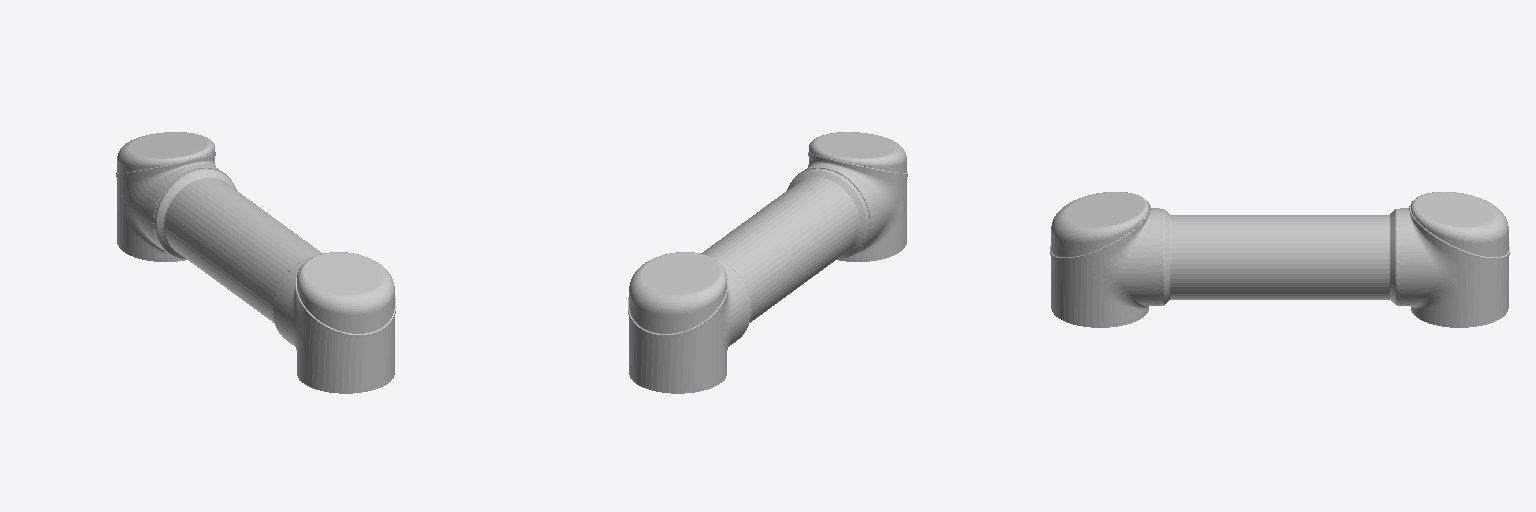
File: upperarm.obj
3 renders of one model, left to right at view 1: azimuth 30°, elevation 25°; view 2: azimuth 150°, elevation 25°; view 3: azimuth 270°, elevation 25°, orthographic.
Visible parts, largest first — view 1: Actor3_ActorShape3_0-Mesh.011, Actor2_ActorShape2_0-Mesh.011, Actor1_ActorShape1_0-Mesh.018, Actor0_ActorShape0_0-Mesh.024, Actor4_ActorShape4_0-Mesh.004; view 2: Actor3_ActorShape3_0-Mesh.011, Actor0_ActorShape0_0-Mesh.024, Actor4_ActorShape4_0-Mesh.004, Actor2_ActorShape2_0-Mesh.011, Actor1_ActorShape1_0-Mesh.018; view 3: Actor3_ActorShape3_0-Mesh.011, Actor0_ActorShape0_0-Mesh.024, Actor2_ActorShape2_0-Mesh.011, Actor1_ActorShape1_0-Mesh.018, Actor4_ActorShape4_0-Mesh.004.
Part boxes in pixels (x1,y1,x2,y2): Actor3_ActorShape3_0-Mesh.011: (154,168,322,329); Actor2_ActorShape2_0-Mesh.011: (274,259,394,393); Actor1_ActorShape1_0-Mesh.018: (296,252,395,337); Actor0_ActorShape0_0-Mesh.024: (117,156,231,261); Actor4_ActorShape4_0-Mesh.004: (116,132,215,176); Actor3_ActorShape3_0-Mesh.011: (701,168,869,329); Actor0_ActorShape0_0-Mesh.024: (629,259,749,393); Actor4_ActorShape4_0-Mesh.004: (628,252,727,337); Actor2_ActorShape2_0-Mesh.011: (792,156,906,261); Actor1_ActorShape1_0-Mesh.018: (808,132,907,176); Actor3_ActorShape3_0-Mesh.011: (1160,209,1399,305); Actor0_ActorShape0_0-Mesh.024: (1400,208,1508,327); Actor2_ActorShape2_0-Mesh.011: (1051,208,1159,327); Actor1_ActorShape1_0-Mesh.018: (1050,192,1150,260); Actor4_ActorShape4_0-Mesh.004: (1409,192,1509,260).
Size of the model in its own units: 0.119 by 0.1337 by 0.544.